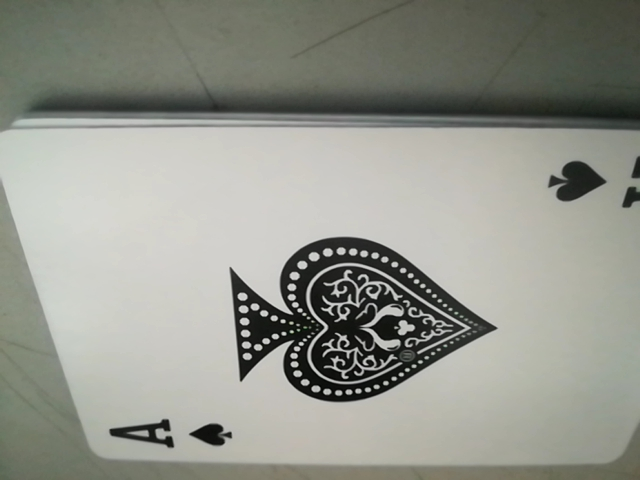ht a: (98, 410, 242, 456)
